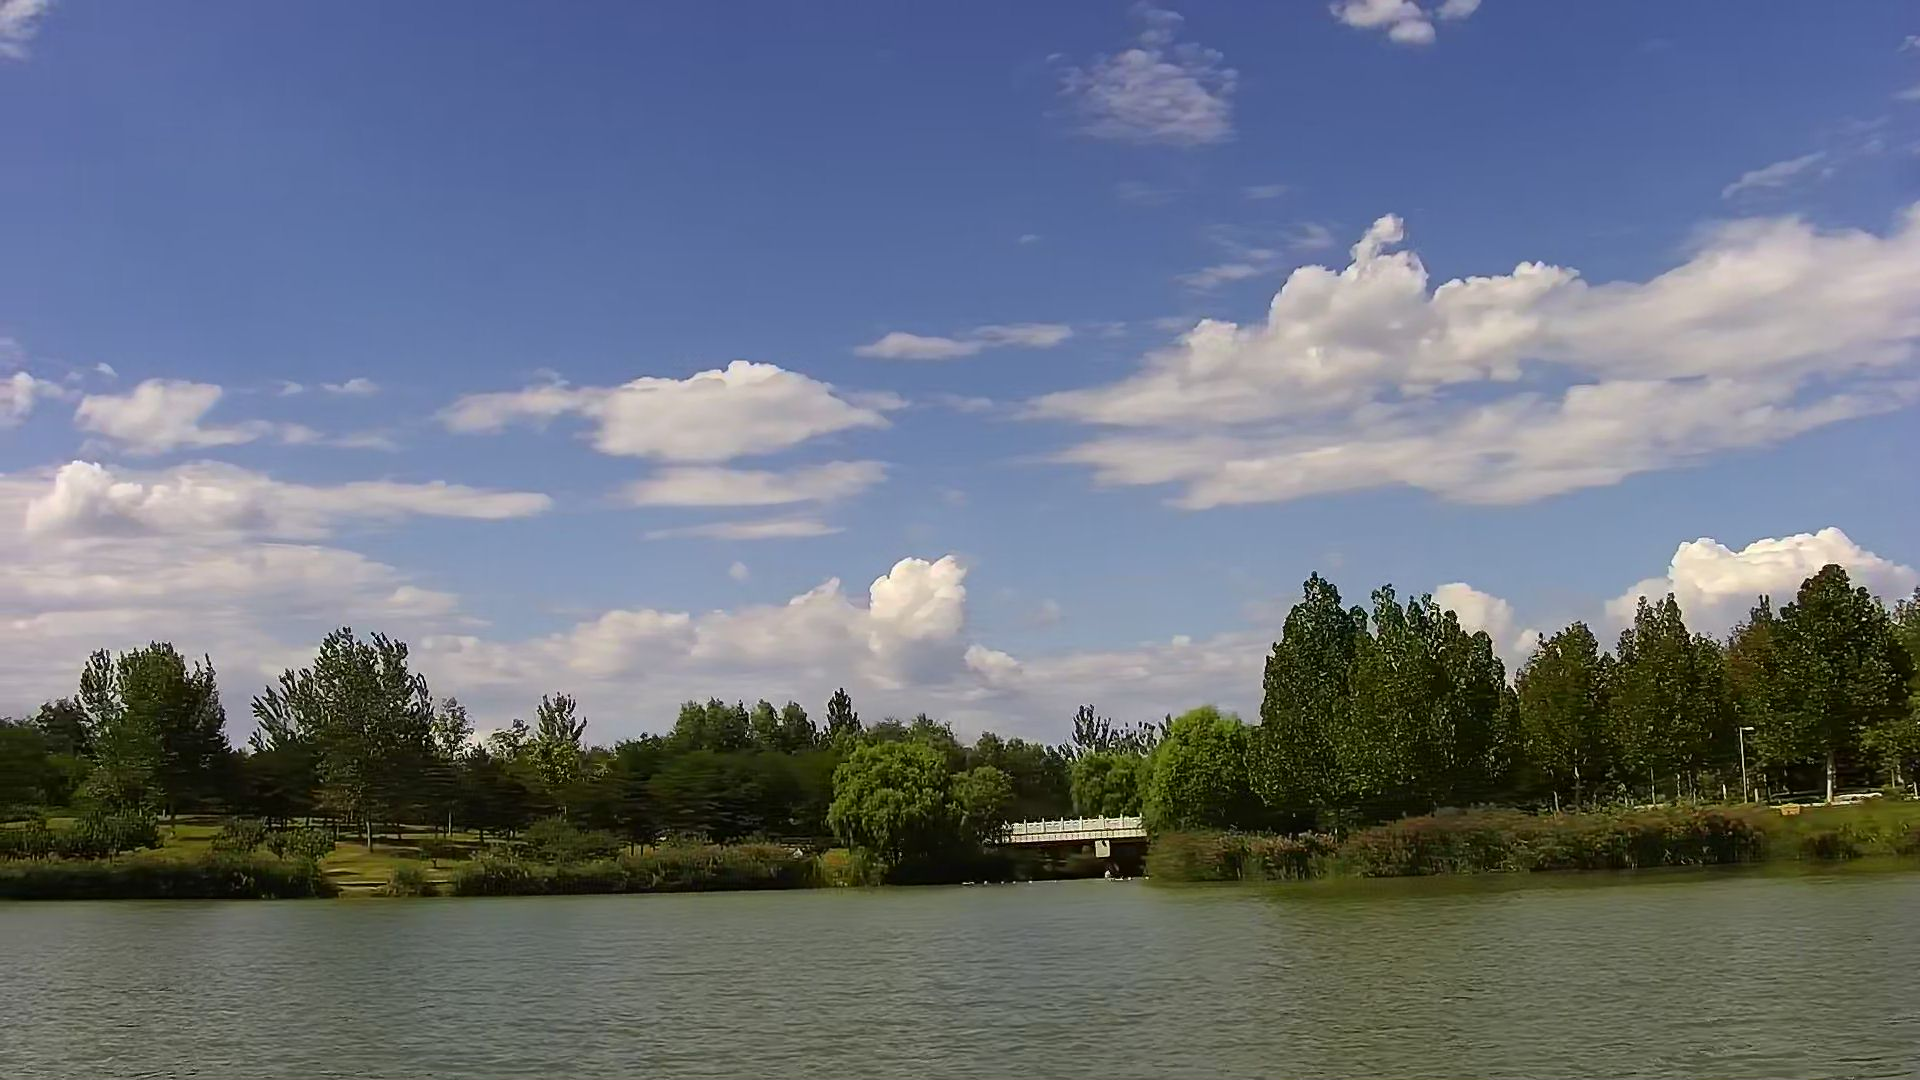bridge: (1001, 814, 1147, 881)
